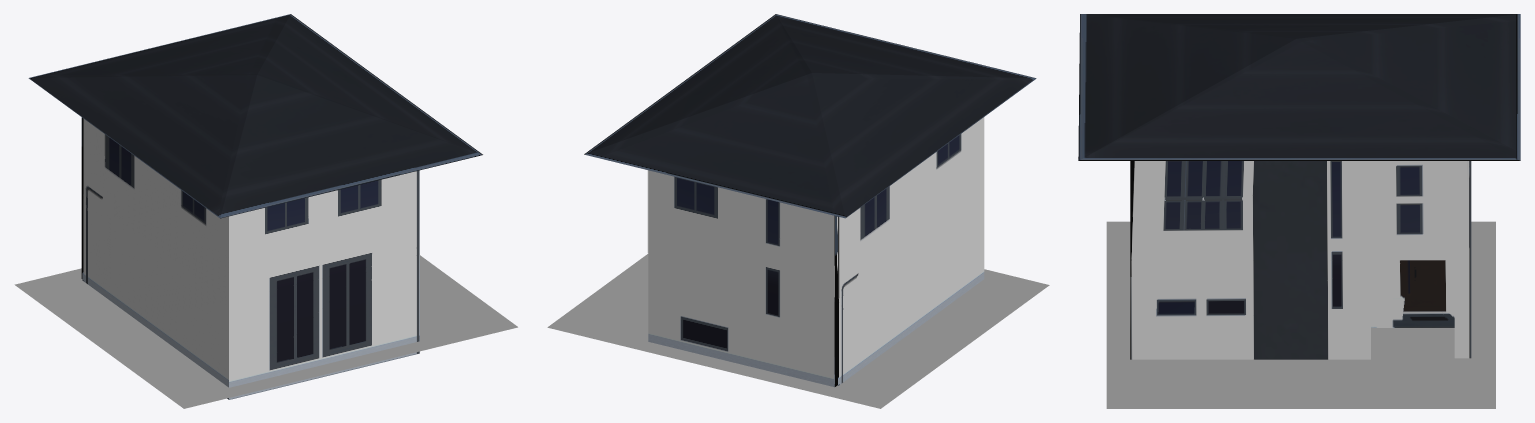
3 views of the same model, side by side, from view 1: azimuth 30°, elevation 25°; view 2: azimuth 150°, elevation 25°; view 3: azimuth 270°, elevation 25° (orthographic). The views are drawn at different scales.
Visible parts, largest first — view 1: polySurface324; view 2: polySurface324; view 3: polySurface324.
Part boxes in pixels (x1,y1,x2,y2): polySurface324: (14,14,517,408); polySurface324: (547,14,1049,408); polySurface324: (1078,14,1520,408).
Size of the model in its own units: 1.21 by 0.8547 by 1.21.
7 materials, 6 textured.
